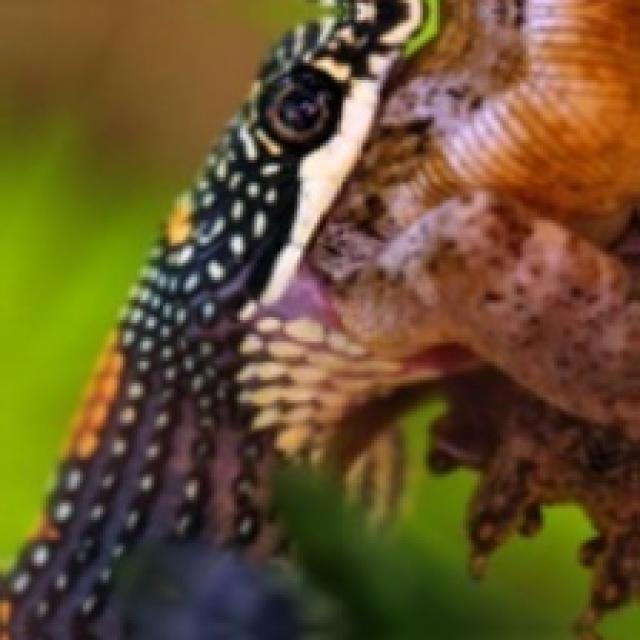paradise tree snake: (0, 0, 637, 637), (0, 109, 303, 637), (414, 463, 594, 623), (263, 0, 403, 77)
